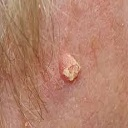Bowen: (59, 54, 85, 84)
